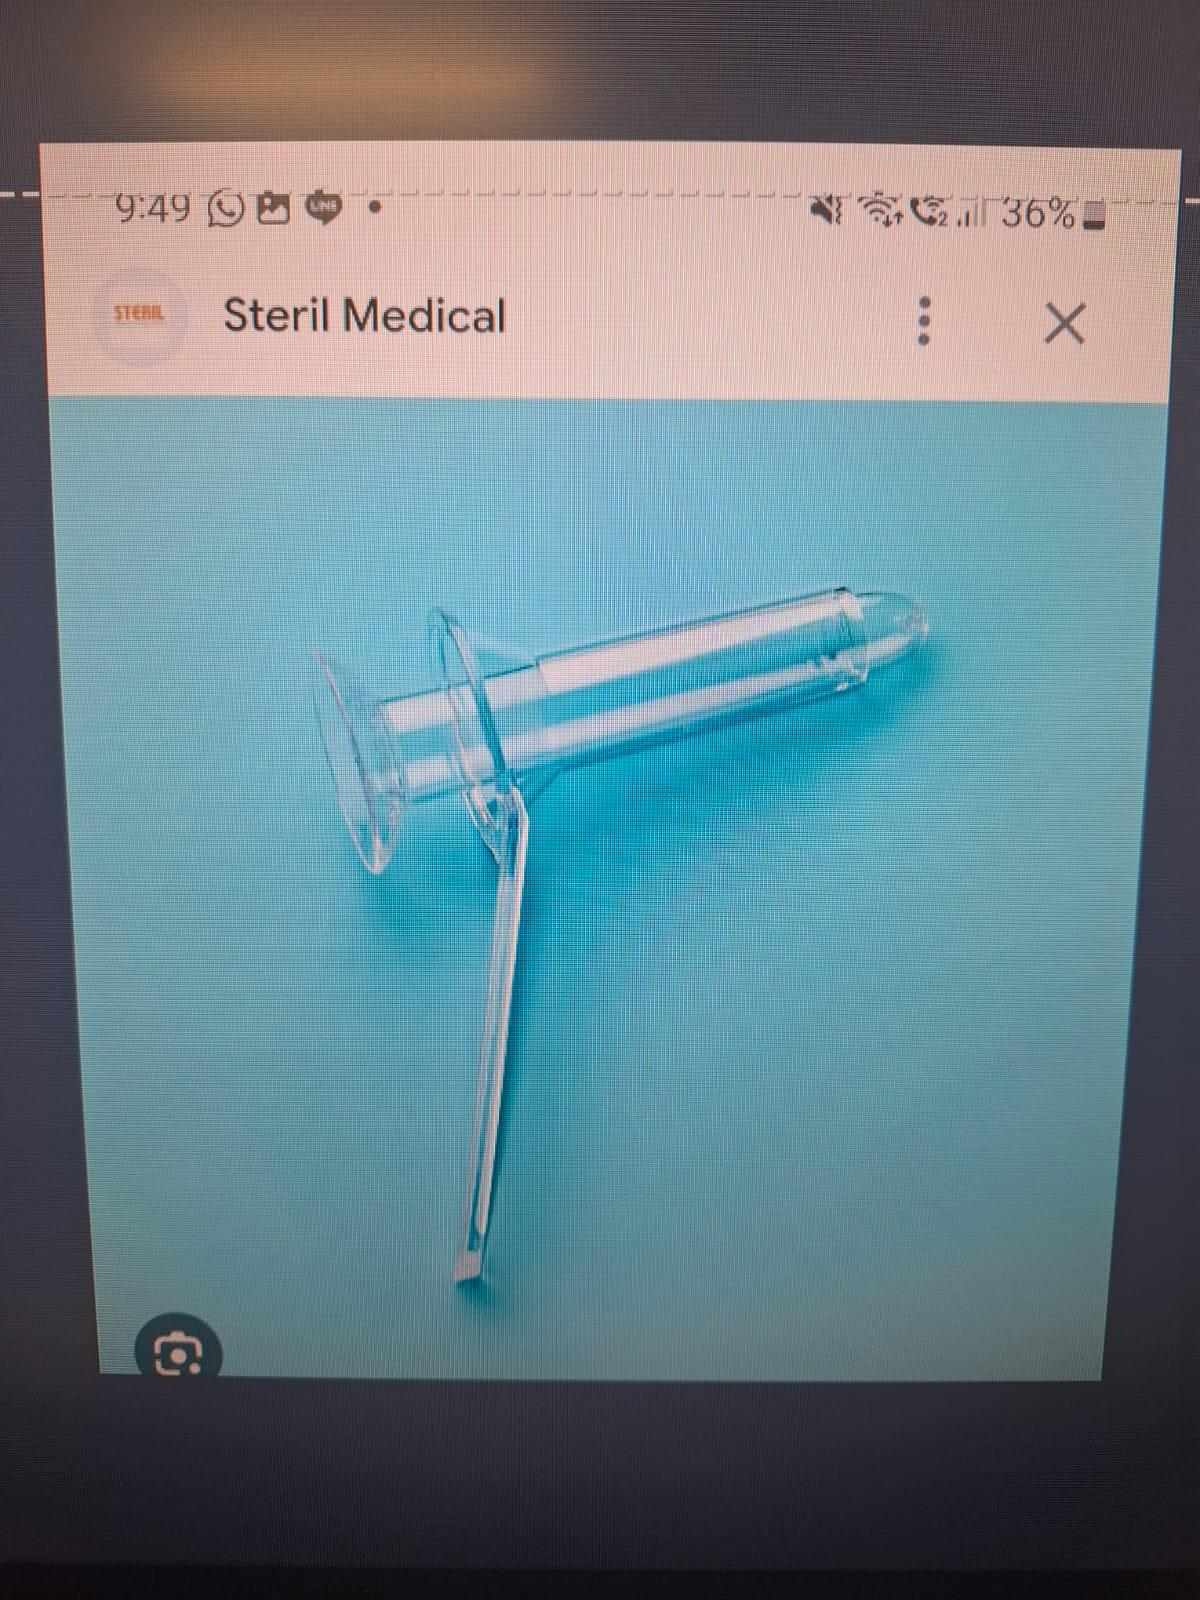Protoscope: (292, 548, 945, 1310)
